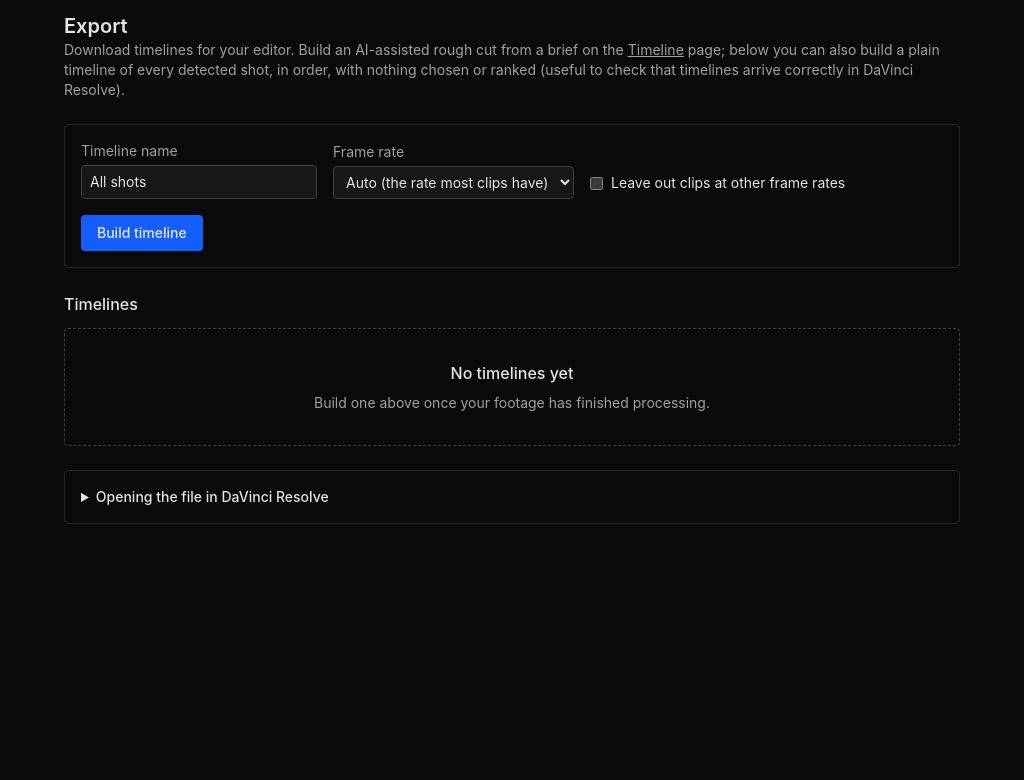
Scenario: builds a timeline with the chosen rate and option
Check: the text "No timelines yet" is shown, box x1=451 y1=363 x2=573 y2=383
Select "29.97 fps" in the dropdown labelled "Frame rate": (454, 182) x1=333 y1=166 x2=574 y2=199
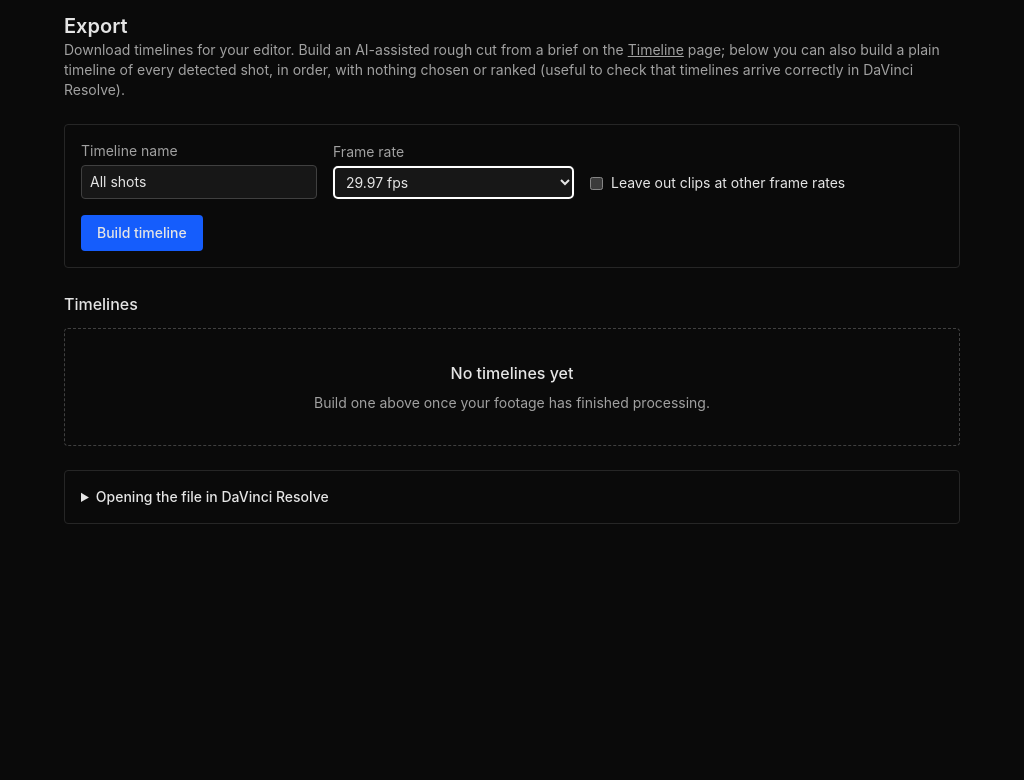
Click the checkbox labelled "Leave out clips at other frame rates": click(596, 183) x1=590 y1=176 x2=603 y2=190
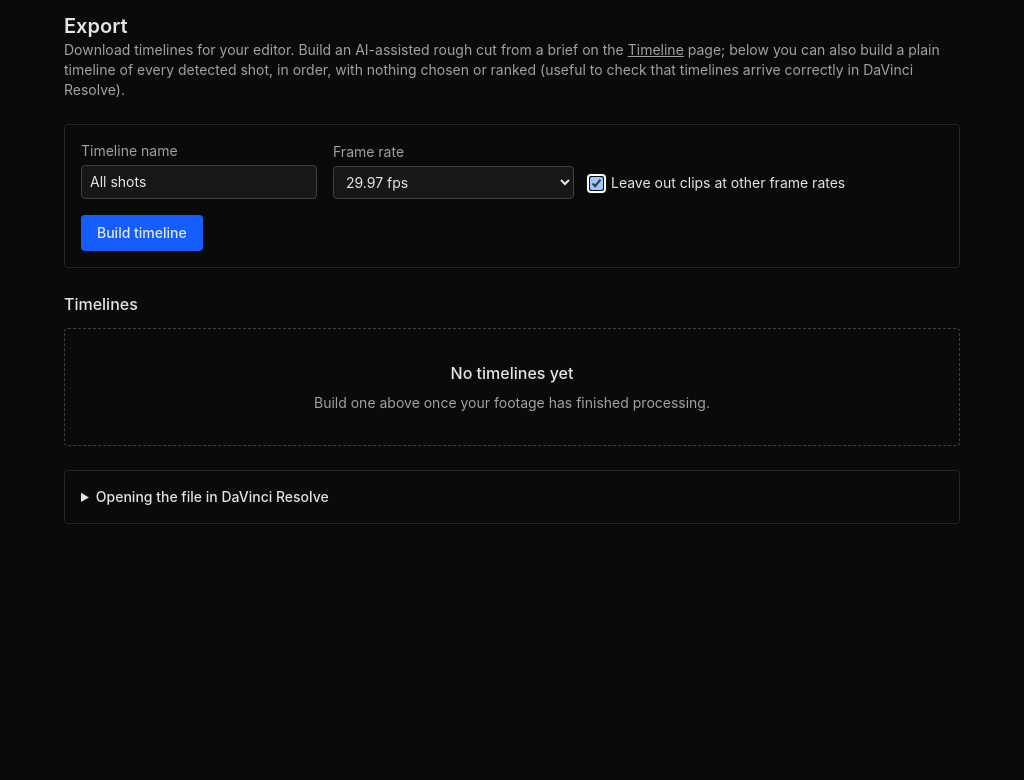
Click the button "Build timeline": click(142, 233) x1=81 y1=215 x2=203 y2=251
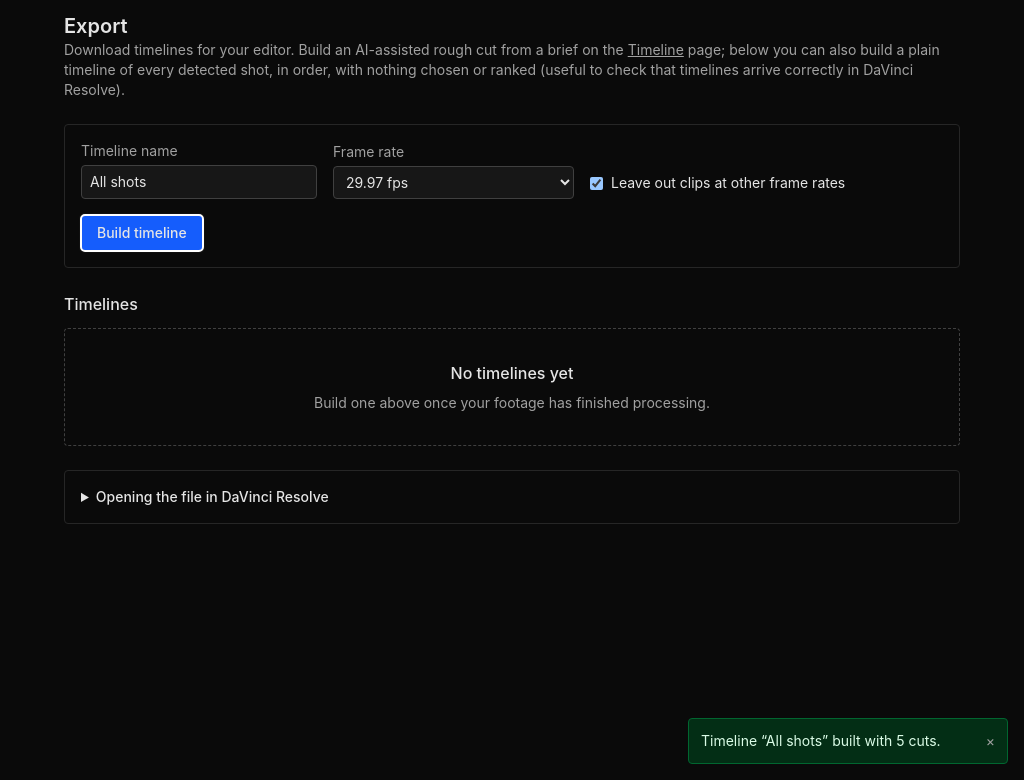
Check: the text "Timeline “All shots” built with 5 cuts." is shown, box x1=701 y1=731 x2=941 y2=751
